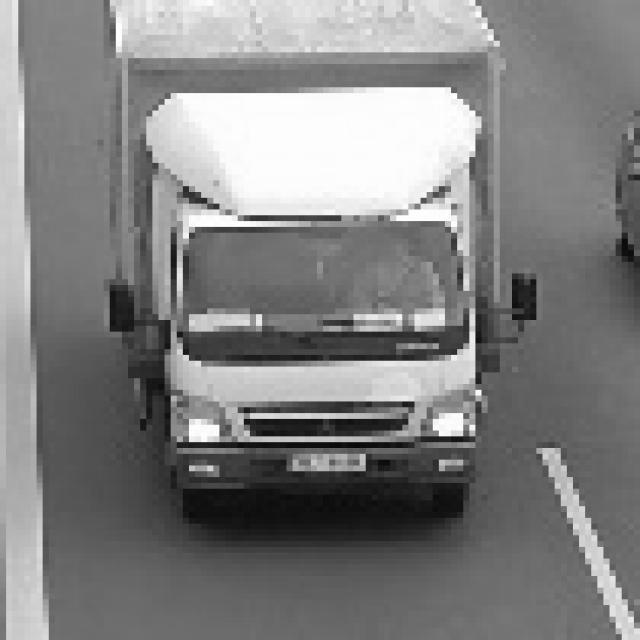truck: (92, 71, 554, 537)
